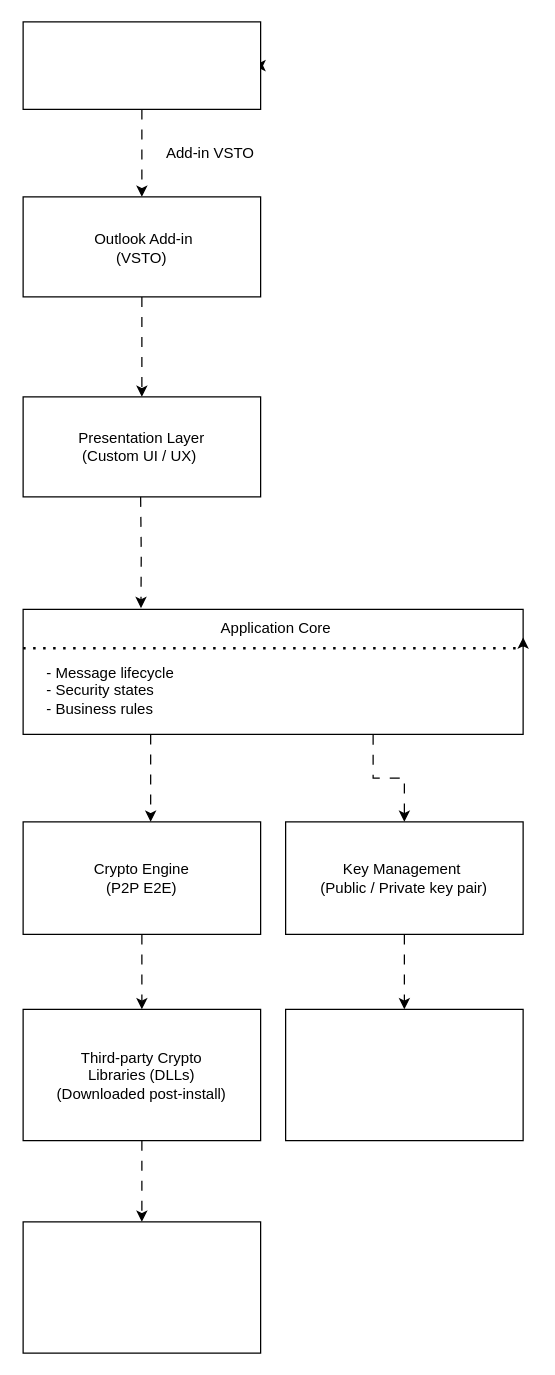
This 555x1375 diagram has some shape labels left out. Each missing label, with the box of its shape:
Logging & Telemetry (Queue-based): (22, 1221, 261, 1353)
Microsoft Outlook: (22, 21, 261, 109)
Secure Storage (Local / OS-level): (284, 1008, 523, 1141)
